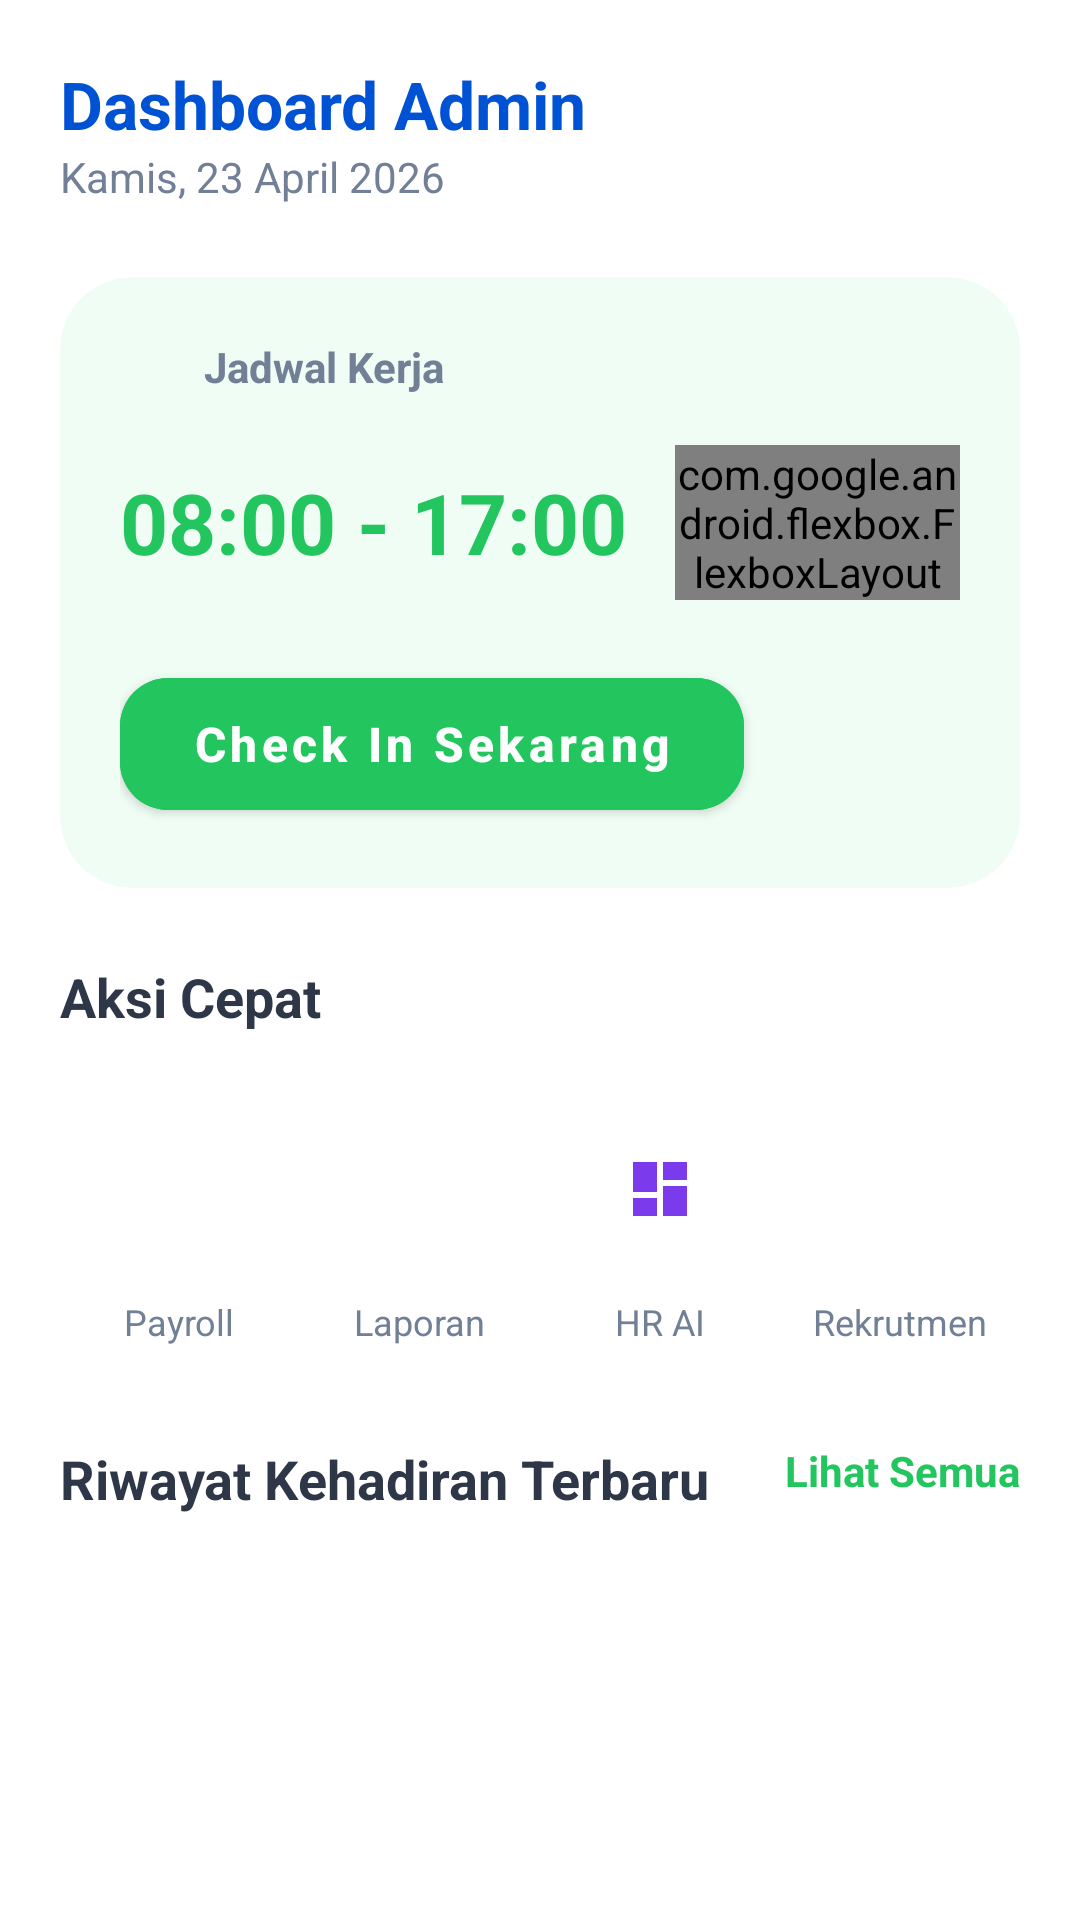

Icon click points for this 1080x1920 phone screenshot, format (x,y):
dashboard: (660,1189)
